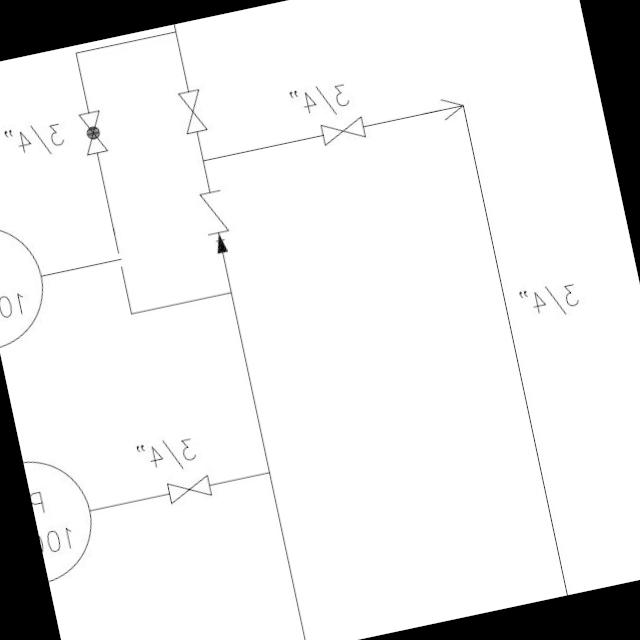BV2: (72, 104, 111, 162)
GV: (171, 82, 214, 140), (316, 112, 370, 148), (162, 472, 216, 508)
